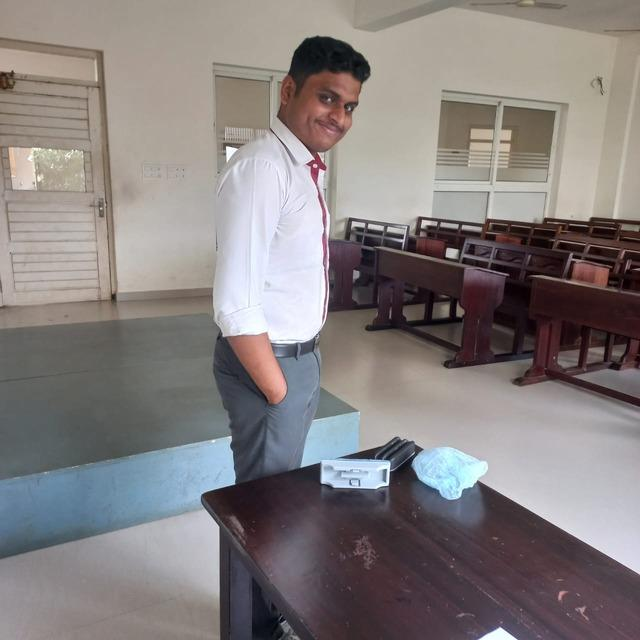no_apron: (283, 165, 328, 344)
no_hairnet: (285, 34, 374, 94)
